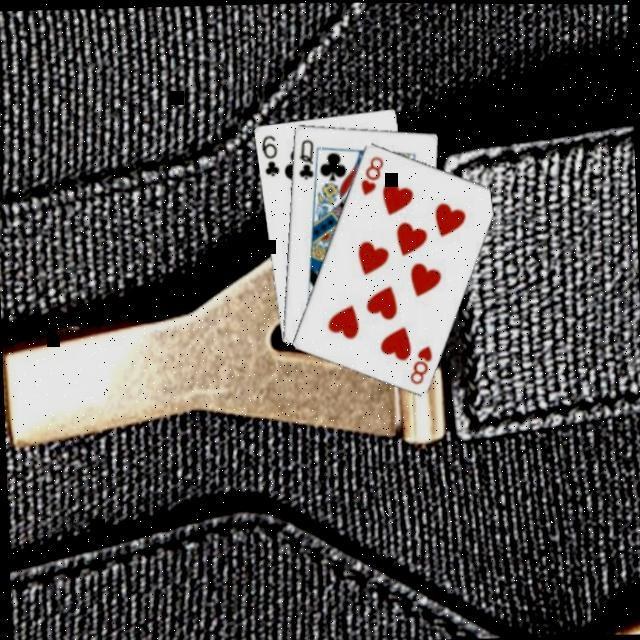6C: (258, 129, 283, 178)
8H: (356, 150, 388, 196), (406, 340, 436, 385)
QC: (294, 134, 318, 180)
